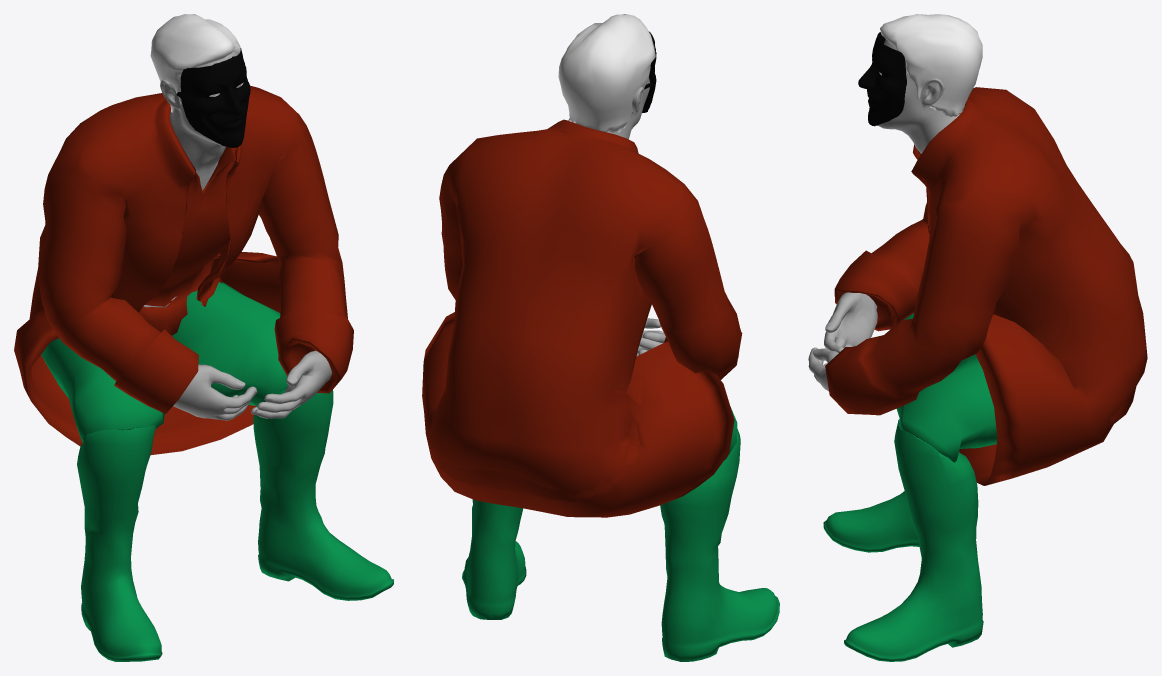
File: Unity_GPP_Sitting.fbx
The picture shows the model from 3 angles, left to right: view 1: azimuth 30°, elevation 25°; view 2: azimuth 150°, elevation 25°; view 3: azimuth 270°, elevation 25°; orthographic projection. The views are drawn at different scales.
Parts seen in each view (by area): view 1: GPP1; view 2: GPP1; view 3: GPP1.
Part boxes in pixels (left/top/right/bottom): GPP1: left=14, top=14, right=393, bottom=661; GPP1: left=422, top=14, right=779, bottom=661; GPP1: left=808, top=14, right=1147, bottom=661.
Bounding box in the file's own units: 73.9 × 135 × 72.5.
